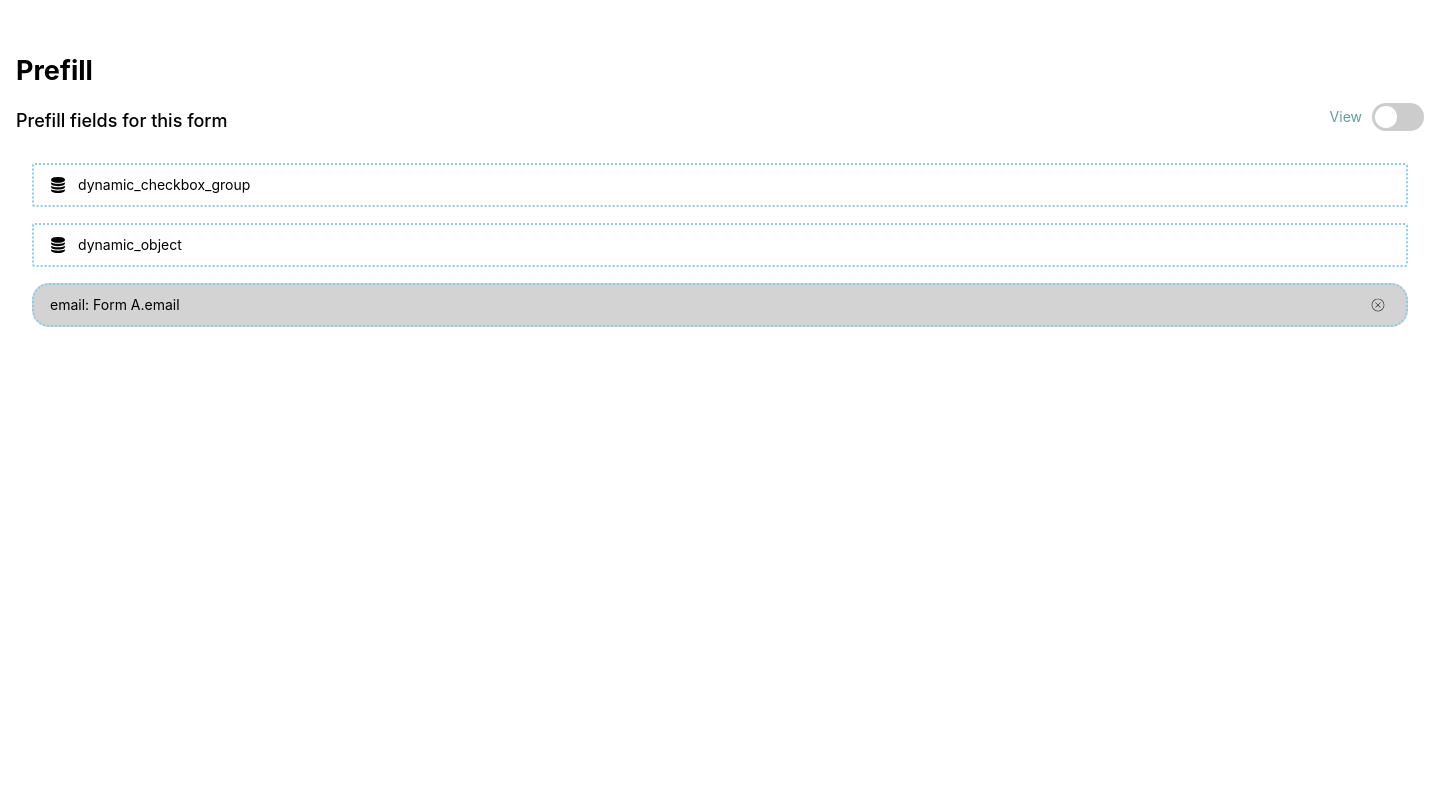
Scenario: Modal › map 'id' with first field > field is filled with button
Check: the heading "Prefill" is shown, box [16, 54, 93, 87]
Click the 2nd checkbox with test id "toggle". click: [1398, 117]
box: [1372, 103, 1424, 131]
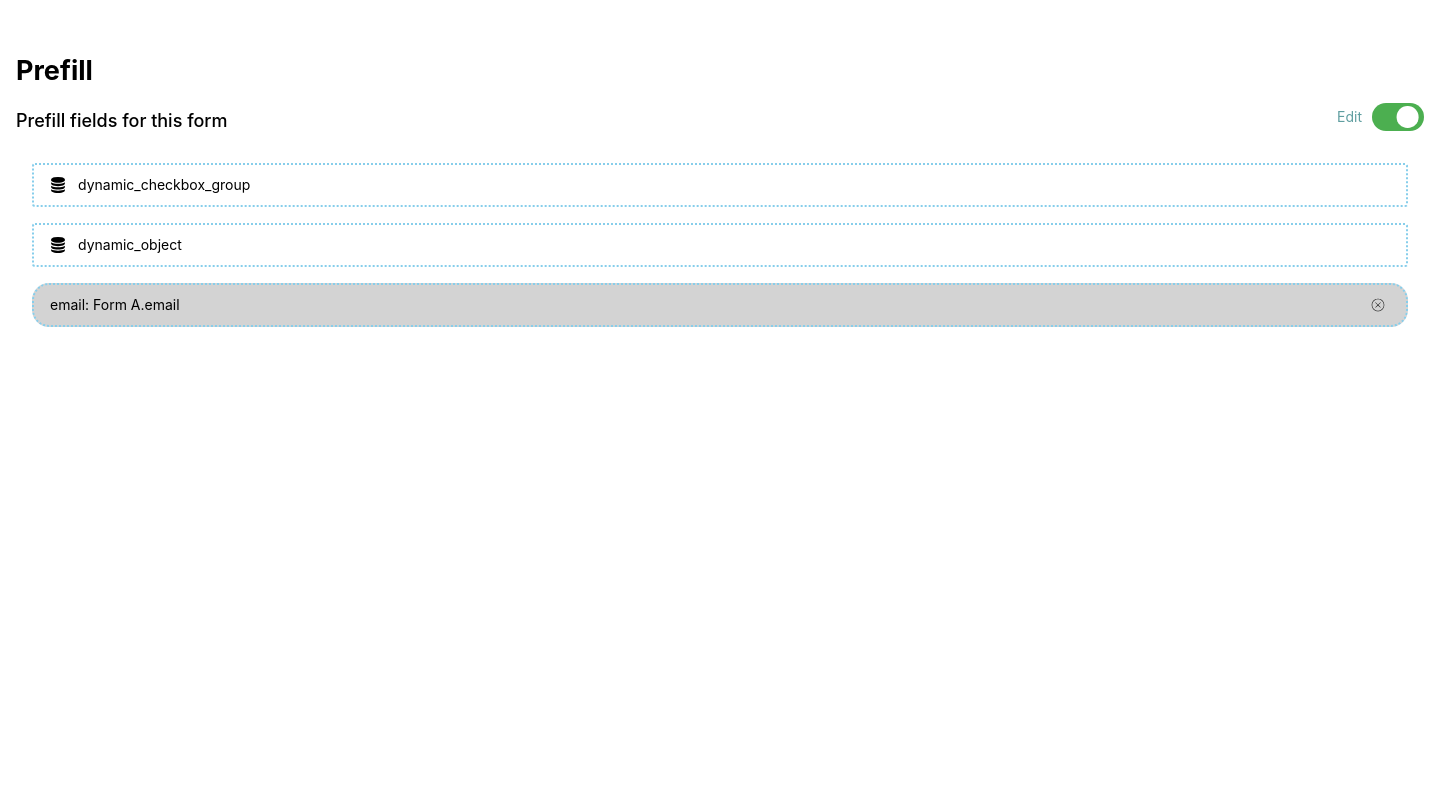
Click the element with test id "first". click: [720, 185]
box: [32, 163, 1408, 207]
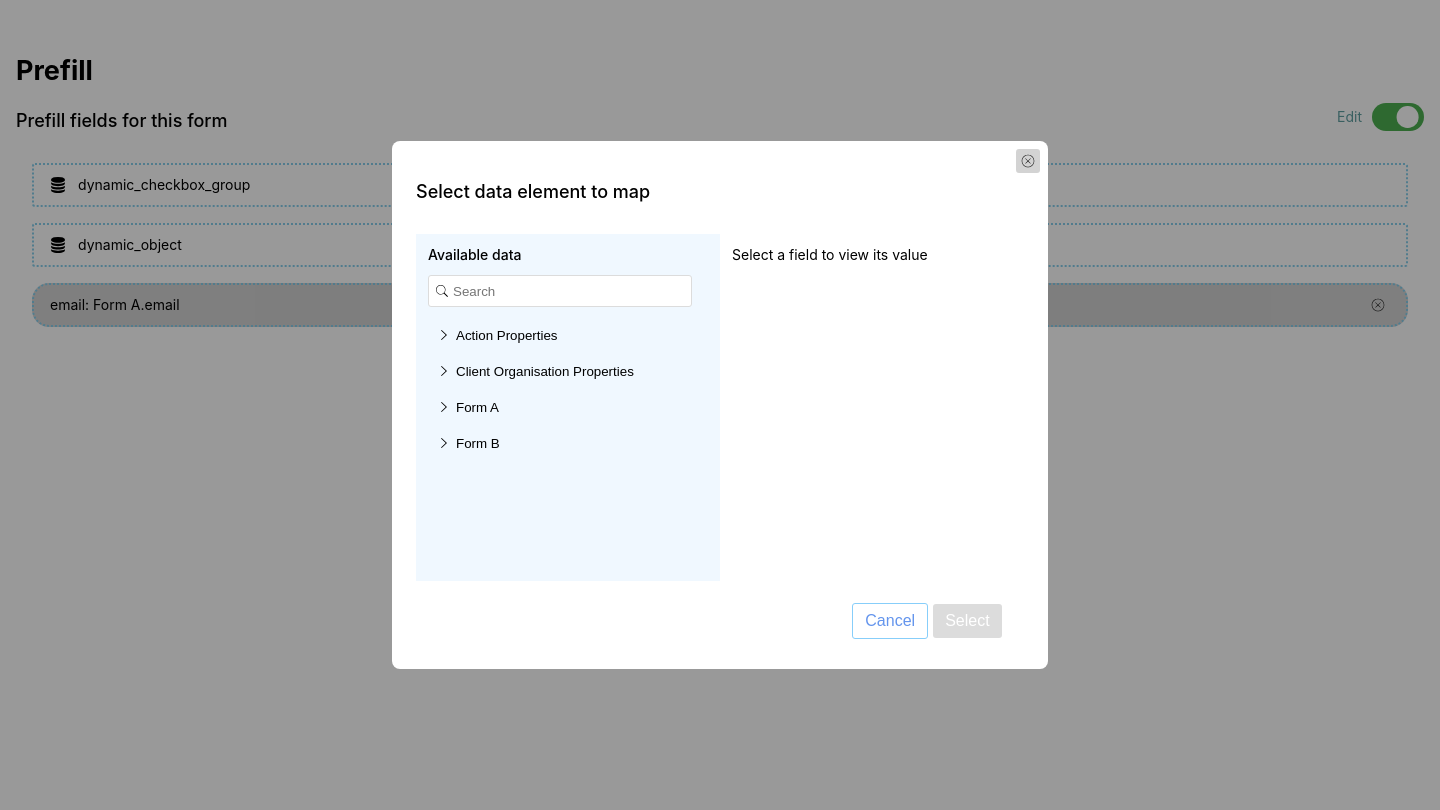
Click the button with test id "Form A". click: [477, 407]
box: [428, 391, 708, 423]
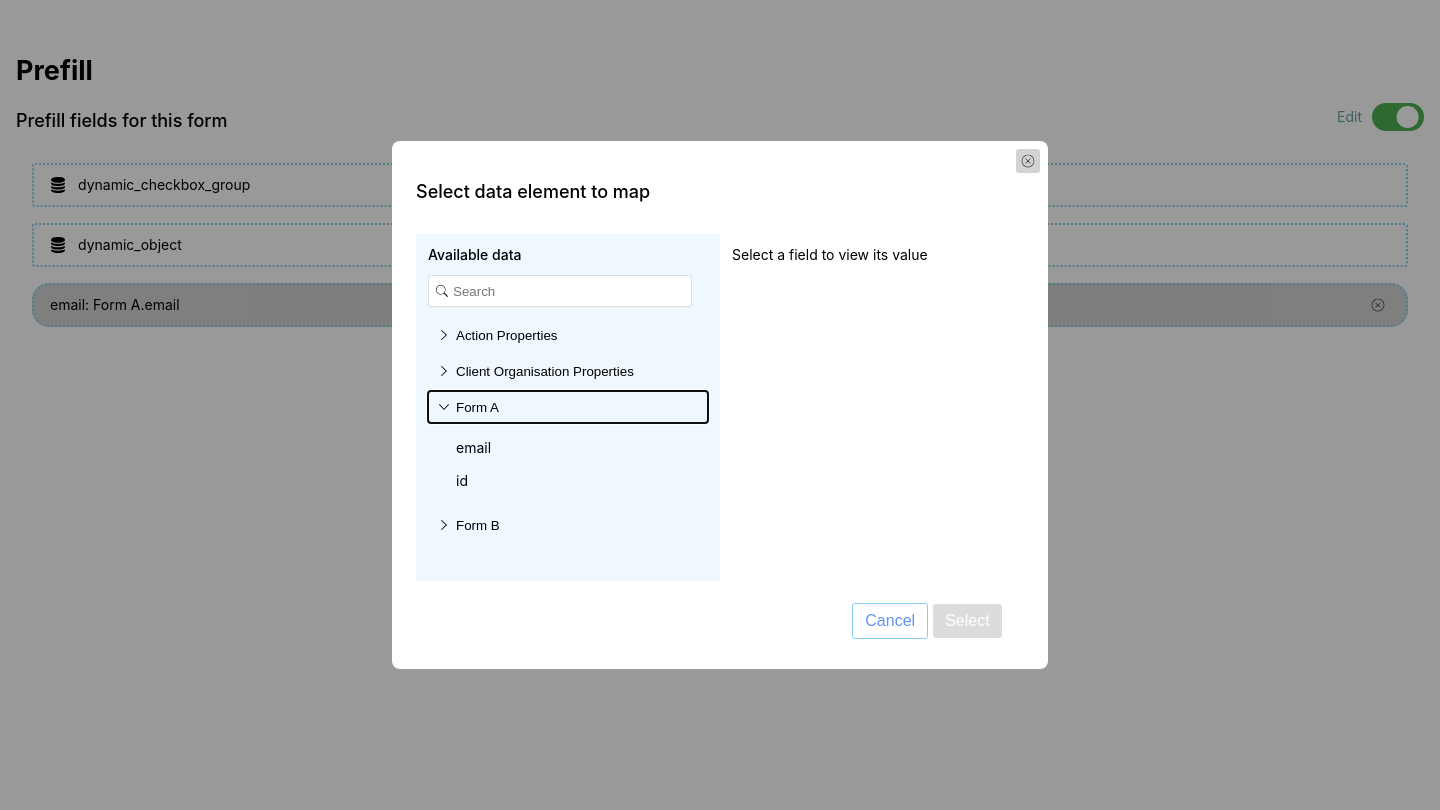
Click the text with test id "id". click: [462, 480]
box: [456, 472, 468, 489]
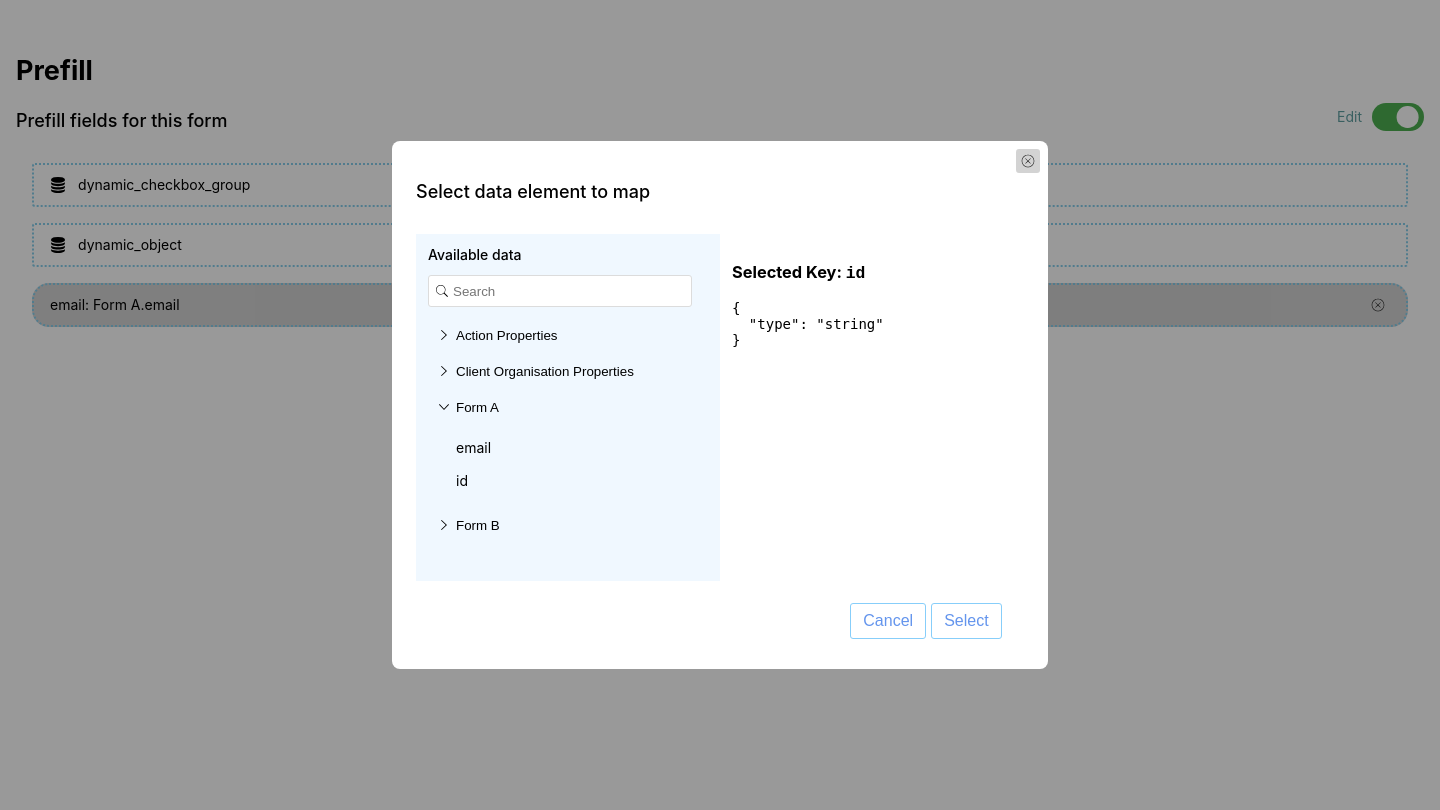
Click the button with test id "select". click: [966, 621]
box: [931, 603, 1002, 639]
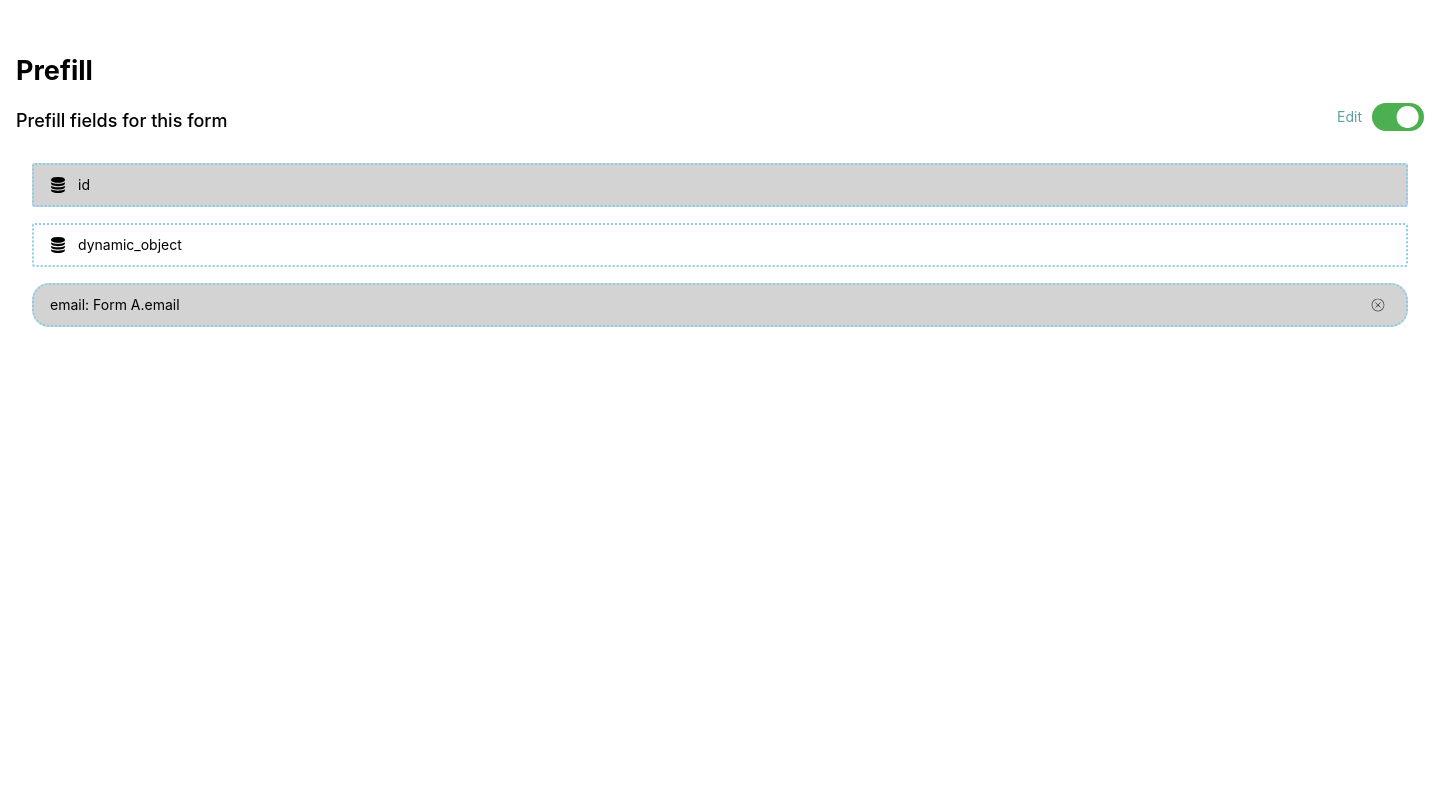
Check: the element with test id "first" reads "id", box [78, 176, 90, 193]
